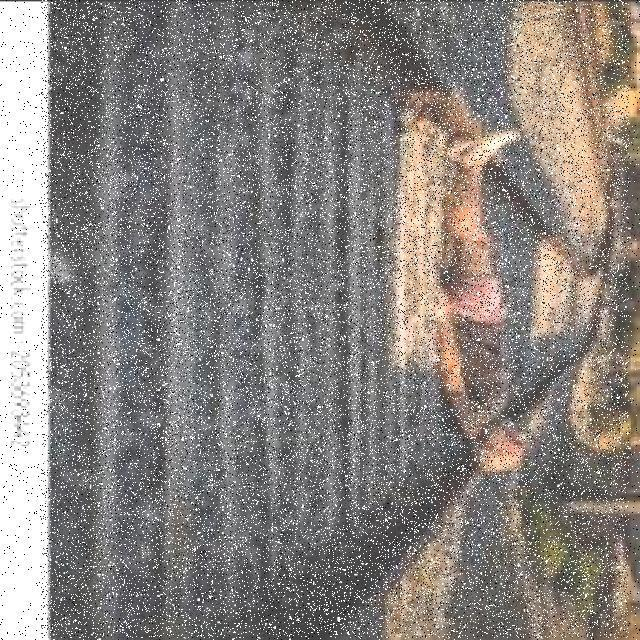danger: (442, 125, 532, 486)
rail: (41, 0, 629, 638)
